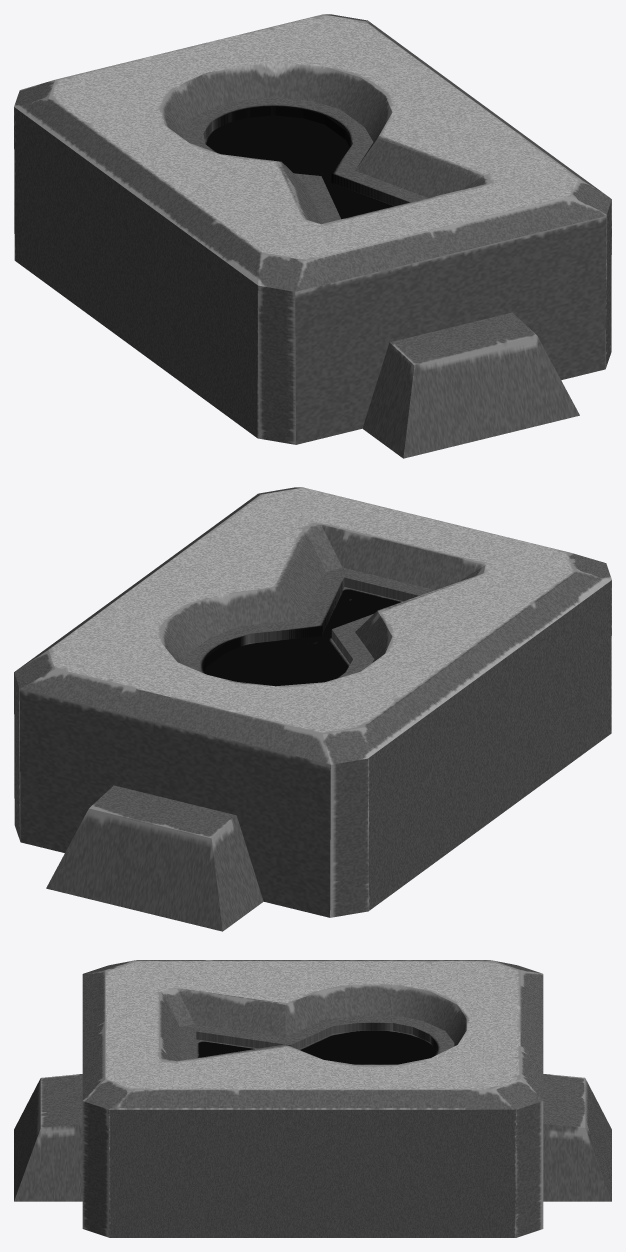
File: bomb_lock.FBX
3 views of the same model, one above another, from view 1: azimuth 30°, elevation 25°; view 2: azimuth 150°, elevation 25°; view 3: azimuth 270°, elevation 25° (orthographic). The views are drawn at different scales.
Parts seen in each view (by area): view 1: bomb_lock; view 2: bomb_lock; view 3: bomb_lock.
Boxes of the visible parts, x1,y1,x2,y2 form: bomb_lock: [14, 14, 611, 458]; bomb_lock: [14, 487, 611, 931]; bomb_lock: [14, 960, 611, 1237].
Size of the model in its own units: 8.46 by 3.85 by 14.79.
